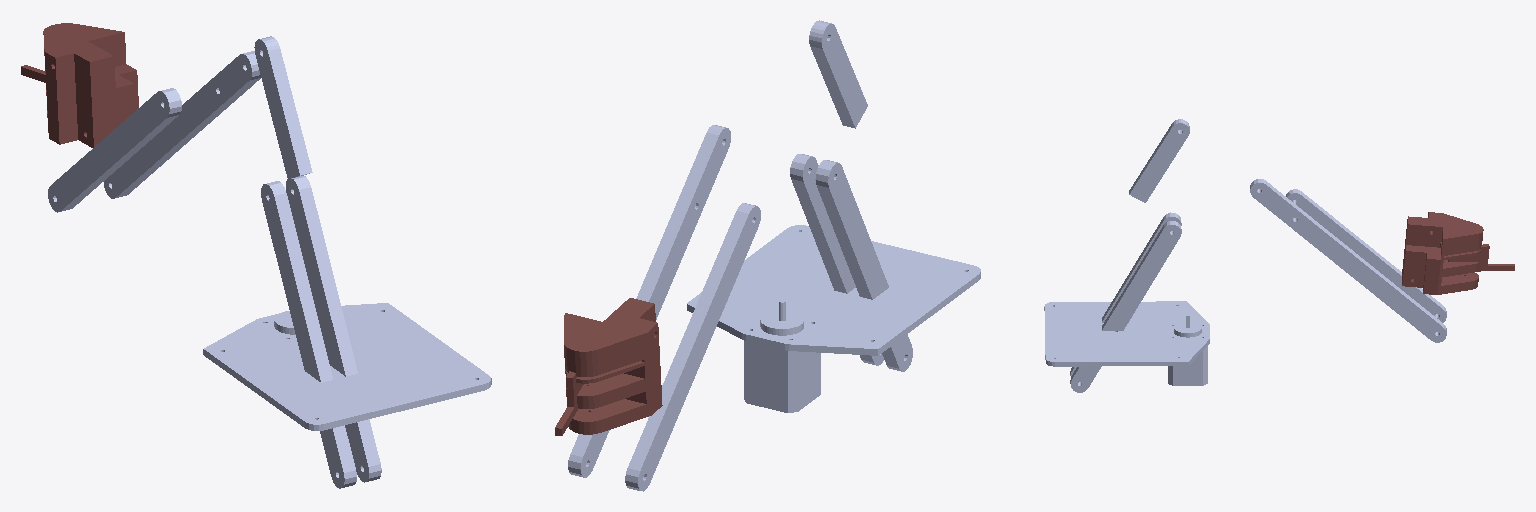
The robot description file, URDF, robot "beer-arm":
<?xml version="1.0" encoding="utf-8"?>
<!-- This URDF was automatically created by SolidWorks to URDF Exporter! Originally created by [author] ([email redacted]) 
     Commit Version: 1.6.0-4-g7f85cfe  Build Version: 1.6.7995.38578
     For more information, please see http://wiki.ros.org/sw_urdf_exporter -->
<robot
  name="beer-arm">
  <link
    name="base_link">
    <inertial>
      <origin
        xyz="0.065744341564924 0.0494910882181169 -0.045216580467112"
        rpy="0 0 0" />
      <mass
        value="0.207046380810351" />
      <inertia
        ixx="0.000296100160478882"
        ixy="4.14810054064923E-07"
        ixz="2.9650972706571E-09"
        iyy="0.000248571256331813"
        iyz="2.58760118757551E-11"
        izz="0.000510587496763238" />
    </inertial>
    <visual>
      <origin
        xyz="0 0 0"
        rpy="0 0 0" />
      <geometry>
        <mesh
          filename="package://beer-arm/meshes/base_link.STL" />
      </geometry>
      <material
        name="">
        <color
          rgba="0.792156862745098 0.819607843137255 0.933333333333333 1" />
      </material>
    </visual>
    <collision>
      <origin
        xyz="0 0 0"
        rpy="0 0 0" />
      <geometry>
        <mesh
          filename="package://beer-arm/meshes/base_link.STL" />
      </geometry>
    </collision>
  </link>
  <link name="world" />

  <joint name="world_to_base_link=" type="fixed">
    <parent link="world"/>
    <child link="base_link"/>
    <origin
        xyz="0 0 .95"
        rpy="-1.57 0 0" />
  </joint>
  <link
    name="Turning_base">
    <inertial>
      <origin
        xyz="-0.0267697026327348 0.00488148698796461 0.0222183347728628"
        rpy="0 0 0" />
      <mass
        value="0.19237125582213" />
      <inertia
        ixx="0.000135901413995399"
        ixy="-1.33820761853295E-06"
        ixz="2.84315818360693E-06"
        iyy="0.000156555561267971"
        iyz="2.6996128156746E-06"
        izz="0.000197919660234674" />
    </inertial>
    <visual>
      <origin
        xyz="0 0 0"
        rpy="0 0 0" />
      <geometry>
        <mesh
          filename="package://beer-arm/meshes/Turning_base.STL" />
      </geometry>
      <material
        name="">
        <color
          rgba="0.792156862745098 0.819607843137255 0.933333333333333 1" />
      </material>
    </visual>
    <collision>
      <origin
        xyz="0 0 0"
        rpy="0 0 0" />
      <geometry>
        <mesh
          filename="package://beer-arm/meshes/Turning_base.STL" />
      </geometry>
    </collision>
  </link>
  <joint
    name="J1"
    type="revolute">
    <origin
      xyz="0.06605 0.032302 0.014542"
      rpy="1.5708 -0.0040186 0" />
    <parent
      link="base_link" />
    <child
      link="Turning_base" />
    <axis
      xyz="0 0 -1" />
    <limit
      lower="0"
      upper="6.28"
      effort="0"
      velocity="0" />
  </joint>
  <link
    name="Lower_Backlink">
    <inertial>
      <origin
        xyz="0.0414635494994407 3.46944695195361E-18 0.00499999999999998"
        rpy="0 0 0" />
      <mass
        value="0.0193744467859455" />
      <inertia
        ixx="8.00416835228506E-07"
        ixy="-9.52912065661088E-22"
        ixz="4.55815036554347E-21"
        iyy="1.54913654040111E-05"
        iyz="1.31132591327248E-22"
        izz="1.59688747928072E-05" />
    </inertial>
    <visual>
      <origin
        xyz="0 0 0"
        rpy="0 0 0" />
      <geometry>
        <mesh
          filename="package://beer-arm/meshes/Lower_Backlink.STL" />
      </geometry>
      <material
        name="">
        <color
          rgba="0.792156862745098 0.819607843137255 0.933333333333333 1" />
      </material>
    </visual>
    <collision>
      <origin
        xyz="0 0 0"
        rpy="0 0 0" />
      <geometry>
        <mesh
          filename="package://beer-arm/meshes/Lower_Backlink.STL" />
      </geometry>
    </collision>
  </link>
  <joint
    name="J2"
    type="continuous">
    <origin
      xyz="-0.0225 -0.022855 0.065355"
      rpy="-1.5708 -1.046 1.5708" />
    <parent
      link="Turning_base" />
    <child
      link="Lower_Backlink" />
    <axis
      xyz="0 0 -1" />
  </joint>
  <link
    name="Link1">
    <inertial>
      <origin
        xyz="-5.21804821573824E-15 0.00500000000000492 -0.00999999999999942"
        rpy="0 0 0" />
      <mass
        value="0.085573794051045" />
      <inertia
        ixx="0.000328606447348668"
        ixy="1.45960717470861E-17"
        ixz="3.74845624985551E-22"
        iyy="3.53584860057504E-06"
        iyz="-2.1588614126044E-16"
        izz="0.000330716066048393" />
    </inertial>
    <visual>
      <origin
        xyz="0 0 0"
        rpy="0 0 0" />
      <geometry>
        <mesh
          filename="package://beer-arm/meshes/Link1.STL" />
      </geometry>
      <material
        name="">
        <color
          rgba="0.792156862745098 0.819607843137255 0.933333333333333 1" />
      </material>
    </visual>
    <collision>
      <origin
        xyz="0 0 0"
        rpy="0 0 0" />
      <geometry>
        <mesh
          filename="package://beer-arm/meshes/Link1.STL" />
      </geometry>
    </collision>
  </link>
  <joint
    name="J3"
    type="revolute">
    <origin
      xyz="-0.0275 0.058501 0.11312"
      rpy="1.5708 -0.50547 -1.5708" />
    <parent
      link="Turning_base" />
    <child
      link="Link1" />
    <axis
      xyz="0 0 -1" />
    <limit
      lower="0"
      upper="6.28"
      effort="0"
      velocity="0" />
  </joint>
  <link
    name="triangle">
    <inertial>
      <origin
        xyz="0.0128671162531901 0.0149668569116931 0.005"
        rpy="0 0 0" />
      <mass
        value="0.0191246861766035" />
      <inertia
        ixx="5.62289539865076E-06"
        ixy="2.73395813990835E-06"
        ixz="-1.63798820454671E-21"
        iyy="4.65318566936926E-06"
        iyz="1.77309574594121E-21"
        izz="9.95733629840997E-06" />
    </inertial>
    <visual>
      <origin
        xyz="0 0 0"
        rpy="0 0 0" />
      <geometry>
        <mesh
          filename="package://beer-arm/meshes/triangle.STL" />
      </geometry>
      <material
        name="">
        <color
          rgba="0.792156862745098 0.819607843137255 0.933333333333333 1" />
      </material>
    </visual>
    <collision>
      <origin
        xyz="0 0 0"
        rpy="0 0 0" />
      <geometry>
        <mesh
          filename="package://beer-arm/meshes/triangle.STL" />
      </geometry>
    </collision>
  </link>
  <joint
    name="J4"
    type="continuous">
    <origin
      xyz="0 0.105 -0.015"
      rpy="0 0 -0.13866" />
    <parent
      link="Link1" />
    <child
      link="triangle" />
    <axis
      xyz="0 0 1" />
  </joint>
  <link
    name="Upper_backlink">
    <inertial>
      <origin
        xyz="0.0414635494994406 1.07552855510562E-15 0.005"
        rpy="0 0 0" />
      <mass
        value="0.0193744467859455" />
      <inertia
        ixx="8.00416835228508E-07"
        ixy="4.2351647362715E-22"
        ixz="2.85427484424913E-21"
        iyy="1.54913654040111E-05"
        iyz="-5.92136022624789E-23"
        izz="1.59688747928072E-05" />
    </inertial>
    <visual>
      <origin
        xyz="0 0 0"
        rpy="0 0 0" />
      <geometry>
        <mesh
          filename="package://beer-arm/meshes/Upper_backlink.STL" />
      </geometry>
      <material
        name="">
        <color
          rgba="0.792156862745098 0.819607843137255 0.933333333333333 1" />
      </material>
    </visual>
    <collision>
      <origin
        xyz="0 0 0"
        rpy="0 0 0" />
      <geometry>
        <mesh
          filename="package://beer-arm/meshes/Upper_backlink.STL" />
      </geometry>
    </collision>
  </link>
  <joint
    name="J5"
    type="continuous">
    <origin
      xyz="0.045 0 0.02"
      rpy="-3.1416 0 -1.4128" />
    <parent
      link="triangle" />
    <child
      link="Upper_backlink" />
    <axis
      xyz="0 0 -1" />
  </joint>
  <link
    name="Upper_frontlink">
    <inertial>
      <origin
        xyz="0.0463904561233755 -6.26720897400901E-14 7.99429966669152E-14"
        rpy="0 0 0" />
      <mass
        value="0.0214124502395769" />
      <inertia
        ixx="8.8417413172566E-07"
        ixy="-2.26124180296804E-17"
        ixz="3.03487084681567E-17"
        iyy="2.08029877158262E-05"
        iyz="4.03015371553792E-22"
        izz="2.13302876768922E-05" />
    </inertial>
    <visual>
      <origin
        xyz="0 0 0"
        rpy="0 0 0" />
      <geometry>
        <mesh
          filename="package://beer-arm/meshes/Upper_frontlink.STL" />
      </geometry>
      <material
        name="">
        <color
          rgba="0.792156862745098 0.819607843137255 0.933333333333333 1" />
      </material>
    </visual>
    <collision>
      <origin
        xyz="0 0 0"
        rpy="0 0 0" />
      <geometry>
        <mesh
          filename="package://beer-arm/meshes/Upper_frontlink.STL" />
      </geometry>
    </collision>
  </link>
  <joint
    name="J6"
    type="continuous">
    <origin
      xyz="0 0.05 -0.005"
      rpy="-3.1416 0 -2.7921" />
    <parent
      link="triangle" />
    <child
      link="Upper_frontlink" />
    <axis
      xyz="0 0 -1" />
  </joint>
  <link
    name="Link2">
    <inertial>
      <origin
        xyz="4.44089209850063E-16 0.0186657789906809 0.0247054628952011"
        rpy="0 0 0" />
      <mass
        value="0.0953394410565643" />
      <inertia
        ixx="0.000470411650298866"
        ixy="3.36399135002045E-18"
        ixz="-2.06366020526793E-21"
        iyy="3.95014826174653E-06"
        iyz="-3.0937247350164E-16"
        izz="0.000472772807876336" />
    </inertial>
    <visual>
      <origin
        xyz="0 0 0"
        rpy="0 0 0" />
      <geometry>
        <mesh
          filename="package://beer-arm/meshes/Link2.STL" />
      </geometry>
      <material
        name="">
        <color
          rgba="0.792156862745098 0.819607843137255 0.933333333333333 1" />
      </material>
    </visual>
    <collision>
      <origin
        xyz="0 0 0"
        rpy="0 0 0" />
      <geometry>
        <mesh
          filename="package://beer-arm/meshes/Link2.STL" />
      </geometry>
    </collision>
  </link>
  <joint
    name="J7"
    type="continuous">
    <origin
      xyz="-0.10241 0.081825 0.01"
      rpy="3.1416 0 1.7933" />
    <parent
      link="Link1" />
    <child
      link="Link2" />
    <axis
      xyz="0 0 -1" />
  </joint>
  <link
    name="Back_gripper">
    <inertial>
      <origin
        xyz="0.0289971473482062 0.0314301160957162 0.00141734074678128"
        rpy="0 0 0" />
      <mass
        value="1.53802958602338" />
      <inertia
        ixx="0.000909413538569684"
        ixy="8.2653399714243E-05"
        ixz="-2.76680034671545E-05"
        iyy="0.000912566548096114"
        iyz="-4.94357740447193E-05"
        izz="0.00115501581802408" />
    </inertial>
    <visual>
      <origin
        xyz="0 0 0"
        rpy="0 0 0" />
      <geometry>
        <mesh
          filename="package://beer-arm/meshes/Back_gripper.STL" />
      </geometry>
      <material
        name="">
        <color
          rgba="0.537254901960784 0.349019607843137 0.337254901960784 1" />
      </material>
    </visual>
    <collision>
      <origin
        xyz="0 0 0"
        rpy="0 0 0" />
      <geometry>
        <mesh
          filename="package://beer-arm/meshes/Back_gripper.STL" />
      </geometry>
    </collision>
  </link>
  <joint
    name="J8"
    type="continuous">
    <origin
      xyz="0.026092 -0.14287 0.022327"
      rpy="3.1416 0 2.2078" />
    <parent
      link="Link2" />
    <child
      link="Back_gripper" />
    <axis
      xyz="0 0 1" />
  </joint>
  <link
    name="Front_gripper">
    <inertial>
      <origin
        xyz="-0.000133634540354588 0.0283220187258271 0.015290063985935"
        rpy="0 0 0" />
      <mass
        value="0.558596679661737" />
      <inertia
        ixx="0.000309404274315498"
        ixy="-3.91459968046766E-05"
        ixz="3.65468624887358E-06"
        iyy="0.000256279098899188"
        iyz="8.07700601429682E-06"
        izz="0.00046459335100017" />
    </inertial>
    <visual>
      <origin
        xyz="0 0 0"
        rpy="0 0 0" />
      <geometry>
        <mesh
          filename="package://beer-arm/meshes/Front_gripper.STL" />
      </geometry>
      <material
        name="">
        <color
          rgba="0.537254901960784 0.349019607843137 0.337254901960784 1" />
      </material>
    </visual>
    <collision>
      <origin
        xyz="0 0 0"
        rpy="0 0 0" />
      <geometry>
        <mesh
          filename="package://beer-arm/meshes/Front_gripper.STL" />
      </geometry>
    </collision>
  </link>
  <joint
    name="J9"
    type="revolute">
    <origin
      xyz="0 0.01 0"
      rpy="1.5708 1.5515 -3.1416" />
    <parent
      link="Back_gripper" />
    <child
      link="Front_gripper" />
    <axis
      xyz="3.3649E-05 0 1" />
    <limit
      lower="0"
      upper="6.28"
      effort="0"
      velocity="0" />
  </joint>
  <link
    name="gripper">
    <inertial>
      <origin
        xyz="0.0309607104904639 -4.59355418676588E-05 0.0171444074906648"
        rpy="0 0 0" />
      <mass
        value="0.0686737389522784" />
      <inertia
        ixx="6.40644623542165E-06"
        ixy="-1.58915253529307E-10"
        ixz="3.10523081266725E-06"
        iyy="2.87092893917182E-05"
        iyz="3.68993537387662E-11"
        izz="2.25895985442529E-05" />
    </inertial>
    <visual>
      <origin
        xyz="0 0 0"
        rpy="0 0 0" />
      <geometry>
        <mesh
          filename="package://beer-arm/meshes/gripper.STL" />
      </geometry>
      <material
        name="">
        <color
          rgba="0.537254901960784 0.349019607843137 0.337254901960784 1" />
      </material>
    </visual>
    <collision>
      <origin
        xyz="0 0 0"
        rpy="0 0 0" />
      <geometry>
        <mesh
          filename="package://beer-arm/meshes/gripper.STL" />
      </geometry>
    </collision>
  </link>
  <joint
    name="J10"
    type="revolute">
    <origin
      xyz="0.012605 0.027445 -0.003"
      rpy="0 0 1.7772" />
    <parent
      link="Front_gripper" />
    <child
      link="gripper" />
    <axis
      xyz="0 3.28E-05 -1" />
    <limit
      lower="0"
      upper="6.28"
      effort="0"
      velocity="0" />
  </joint>
  <link
    name="lower_frontlink">
    <inertial>
      <origin
        xyz="0.0463904561233882 -6.08957329006898E-14 7.9956874454723E-14"
        rpy="0 0 0" />
      <mass
        value="0.0214124502395769" />
      <inertia
        ixx="8.84174131725664E-07"
        ixy="-2.25680017395088E-17"
        ixz="3.03403302313668E-17"
        iyy="2.08029877158262E-05"
        iyz="9.06223377333586E-23"
        izz="2.13302876768923E-05" />
    </inertial>
    <visual>
      <origin
        xyz="0 0 0"
        rpy="0 0 0" />
      <geometry>
        <mesh
          filename="package://beer-arm/meshes/lower_frontlink.STL" />
      </geometry>
      <material
        name="">
        <color
          rgba="0.792156862745098 0.819607843137255 0.933333333333333 1" />
      </material>
    </visual>
    <collision>
      <origin
        xyz="0 0 0"
        rpy="0 0 0" />
      <geometry>
        <mesh
          filename="package://beer-arm/meshes/lower_frontlink.STL" />
      </geometry>
    </collision>
  </link>
  <joint
    name="J11"
    type="continuous">
    <origin
      xyz="0.039 0.0575 -0.0074928"
      rpy="3.1416 0 0.62534" />
    <parent
      link="Back_gripper" />
    <child
      link="lower_frontlink" />
    <axis
      xyz="0 0 -1" />
  </joint>
  <gazebo>
    <joint name='J21' type='fixed'>
      <child>Upper_backlink</child>
      <parent>Lower_Backlink</parent>
    </joint>
    <joint name='J22' type='fixed'>
      <child>lower_frontlink</child>
      <parent>Upper_frontlink</parent>
    </joint>
  </gazebo>
</robot>

--- Facts derived from the render (not from the file) ---
The picture shows the robot from 3 angles, left to right: view 1: azimuth 30°, elevation 25°; view 2: azimuth 150°, elevation 25°; view 3: azimuth 270°, elevation 25°; orthographic projection.
Model beer-arm with 13 links and 12 joints (4 revolute, 7 continuous, 1 fixed), rooted at world, posed every joint at zero.
Links seen in each view (by area): view 1: base_link, Link1, Link2, Back_gripper, Upper_backlink; view 2: base_link, Link2, Back_gripper, Link1, Upper_backlink, gripper; view 3: base_link, Link2, Back_gripper, Link1, Upper_backlink, gripper.
Boxes of the visible links, bbox=[...] form: base_link: bbox=[203, 303, 491, 430]; Link1: bbox=[261, 176, 381, 488]; Link2: bbox=[48, 51, 260, 212]; Back_gripper: bbox=[43, 23, 138, 147]; Upper_backlink: bbox=[254, 36, 312, 178]; base_link: bbox=[687, 225, 980, 412]; Link2: bbox=[568, 125, 760, 491]; Back_gripper: bbox=[564, 298, 662, 434]; Link1: bbox=[790, 154, 912, 371]; Upper_backlink: bbox=[809, 20, 867, 128]; gripper: bbox=[555, 371, 583, 435]; base_link: bbox=[1044, 301, 1209, 385]; Link2: bbox=[1250, 179, 1446, 342]; Back_gripper: bbox=[1402, 212, 1483, 294]; Link1: bbox=[1070, 212, 1181, 392]; Upper_backlink: bbox=[1129, 119, 1189, 202]; gripper: bbox=[1440, 242, 1514, 271].
Size in the robot's own frame: 0.1512 by 0.4945 by 0.3029 metres.
Meshes: 12 distinct files referenced, 6 mesh visuals loaded (6 binary STL); not drawn: 6 (reference not matched to a file when rendering).